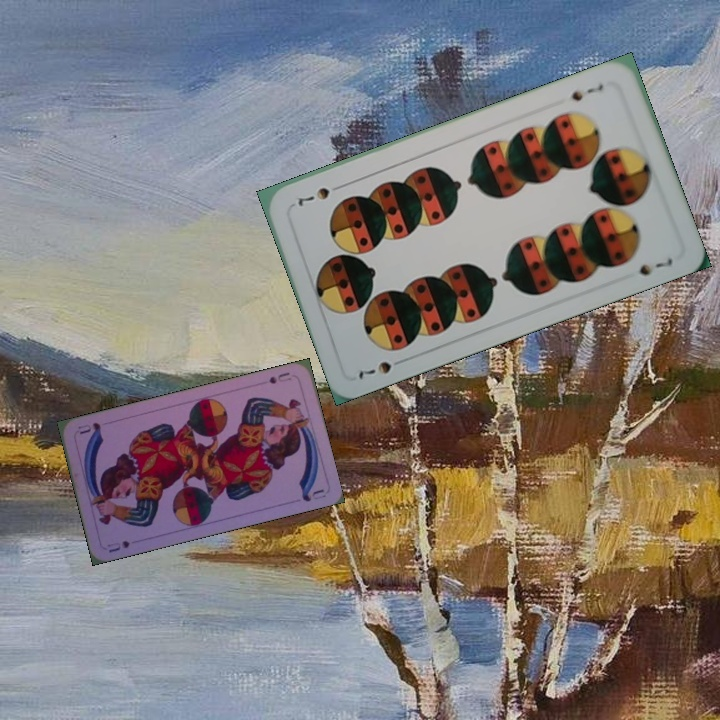S7: (353, 354, 409, 382), (567, 79, 606, 104)
SU: (104, 536, 132, 555), (265, 368, 294, 386)
